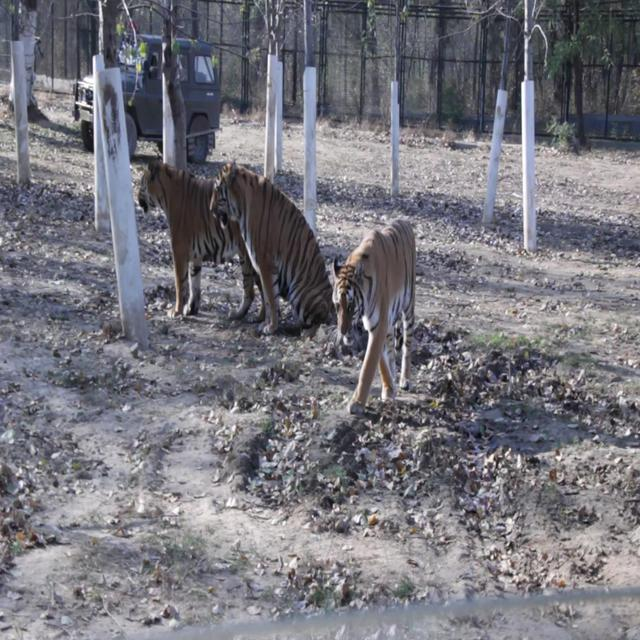tiger: (208, 159, 334, 336), (137, 156, 266, 318), (330, 218, 416, 414)
